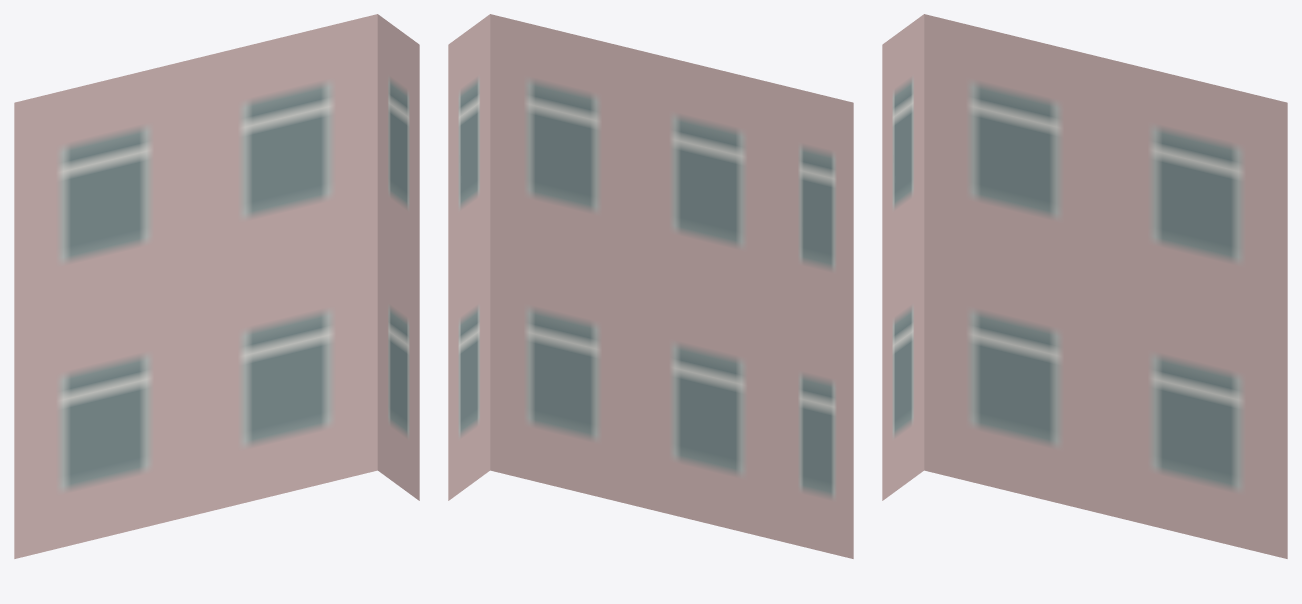
3 views of the same model, side by side, from view 1: azimuth 30°, elevation 25°; view 2: azimuth 150°, elevation 25°; view 3: azimuth 330°, elevation 25° (orthographic).
Size of the model in its own units: 5 by 6 by 1.
2 materials, 1 textured.
